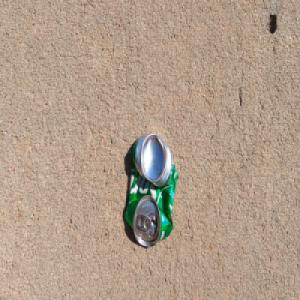SodaCan: (123, 130, 177, 248)
